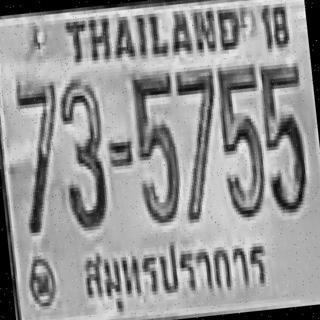N03: (54, 75, 110, 230)
N05: (127, 69, 184, 224), (212, 62, 269, 217), (256, 58, 313, 212)
N07: (12, 78, 70, 233), (171, 65, 226, 220)
P57: (77, 225, 272, 320)
